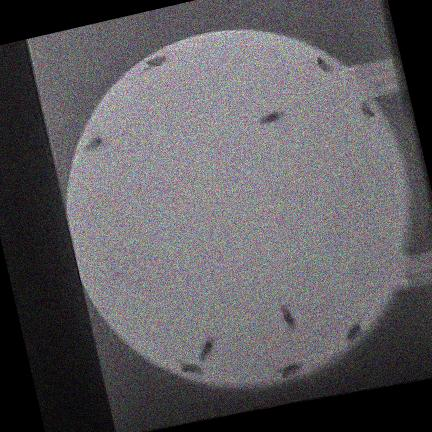fly: (198, 337, 214, 361), (258, 110, 283, 125), (360, 98, 377, 119), (144, 54, 166, 70), (280, 306, 294, 331), (276, 364, 300, 378), (178, 362, 202, 375), (345, 321, 360, 341), (314, 57, 332, 73), (83, 136, 101, 151)
